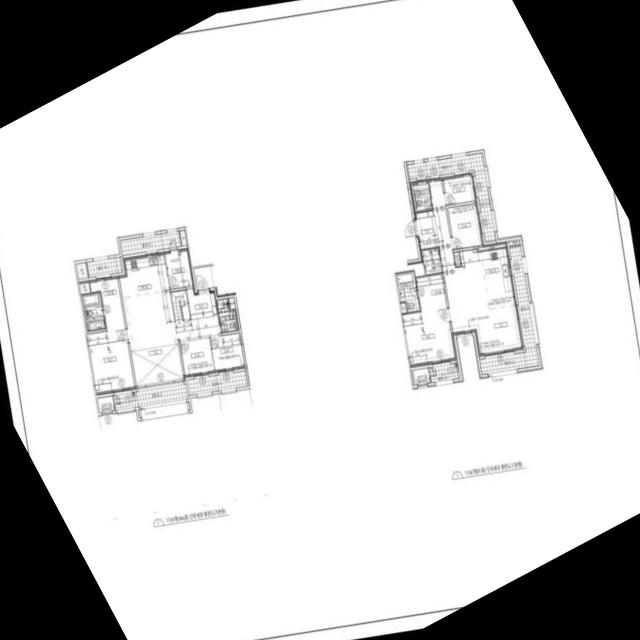background: (0, 0, 640, 640)
space_balconi: (406, 152, 495, 241), (479, 245, 538, 374), (112, 384, 187, 410), (119, 231, 180, 255), (187, 371, 247, 394), (86, 257, 122, 277), (428, 363, 459, 382)
space_bedroom: (401, 308, 456, 367), (86, 328, 134, 394), (447, 203, 483, 249), (179, 337, 214, 377), (209, 333, 244, 372), (442, 172, 475, 204)
space_dressroom: (89, 276, 124, 331), (415, 274, 446, 311)
space_front: (413, 210, 439, 249), (186, 288, 217, 319)
space_kitchen: (459, 247, 514, 297), (118, 251, 168, 296)
space_living_room: (428, 177, 523, 356), (122, 288, 220, 385)
space_multipurpose_space: (163, 248, 193, 288)
space_other: (421, 248, 441, 274), (394, 262, 424, 276), (477, 241, 506, 250), (75, 262, 87, 278), (78, 280, 89, 293), (179, 230, 186, 245), (453, 251, 460, 265), (228, 297, 234, 309), (508, 239, 519, 245), (400, 302, 406, 313)
space_outdoor_room: (412, 367, 429, 385), (97, 395, 113, 412)
space_staircase: (170, 289, 189, 322)
space_toilet: (395, 271, 419, 312), (81, 292, 105, 330), (216, 298, 237, 332), (411, 183, 431, 210)
